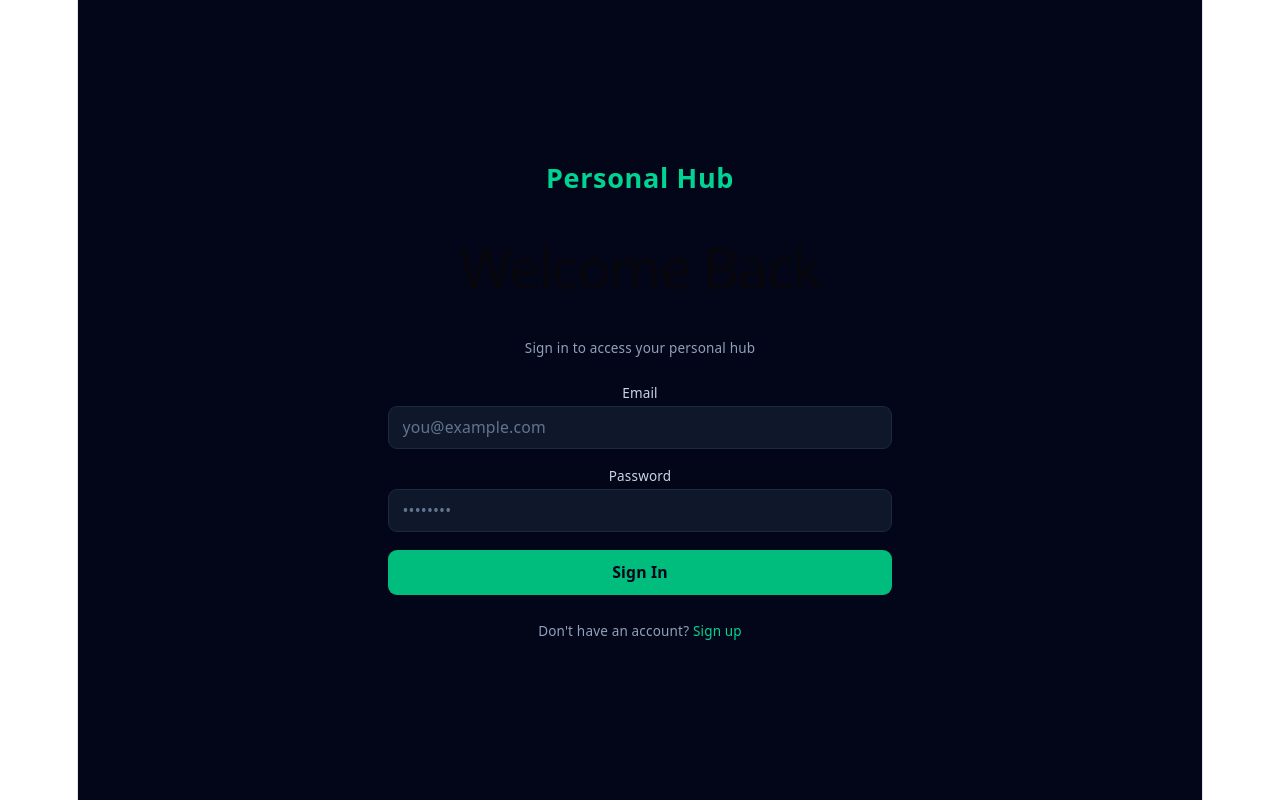
it: LoginPage component › displays inline error on field blur when invalid
Click the field labelled "Email". click: (640, 427)
box: [388,406,892,449]
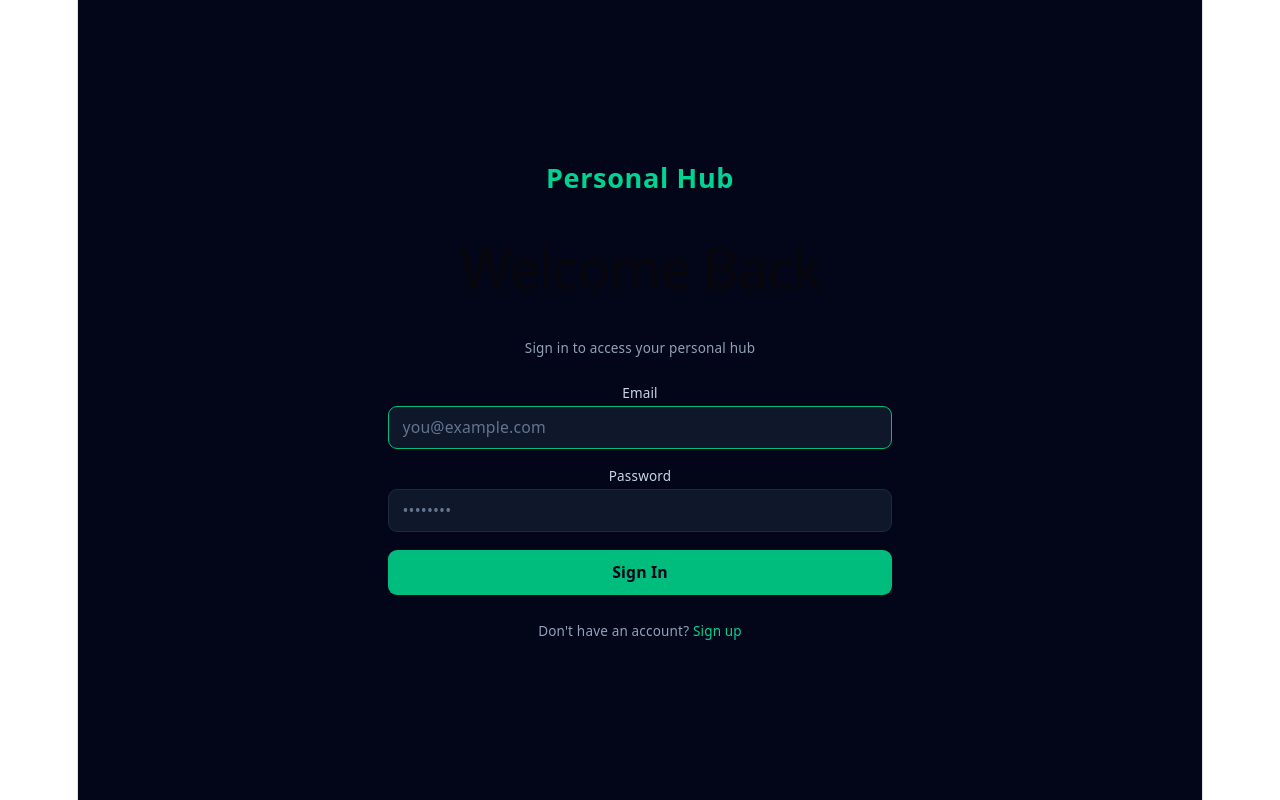
Press Tab
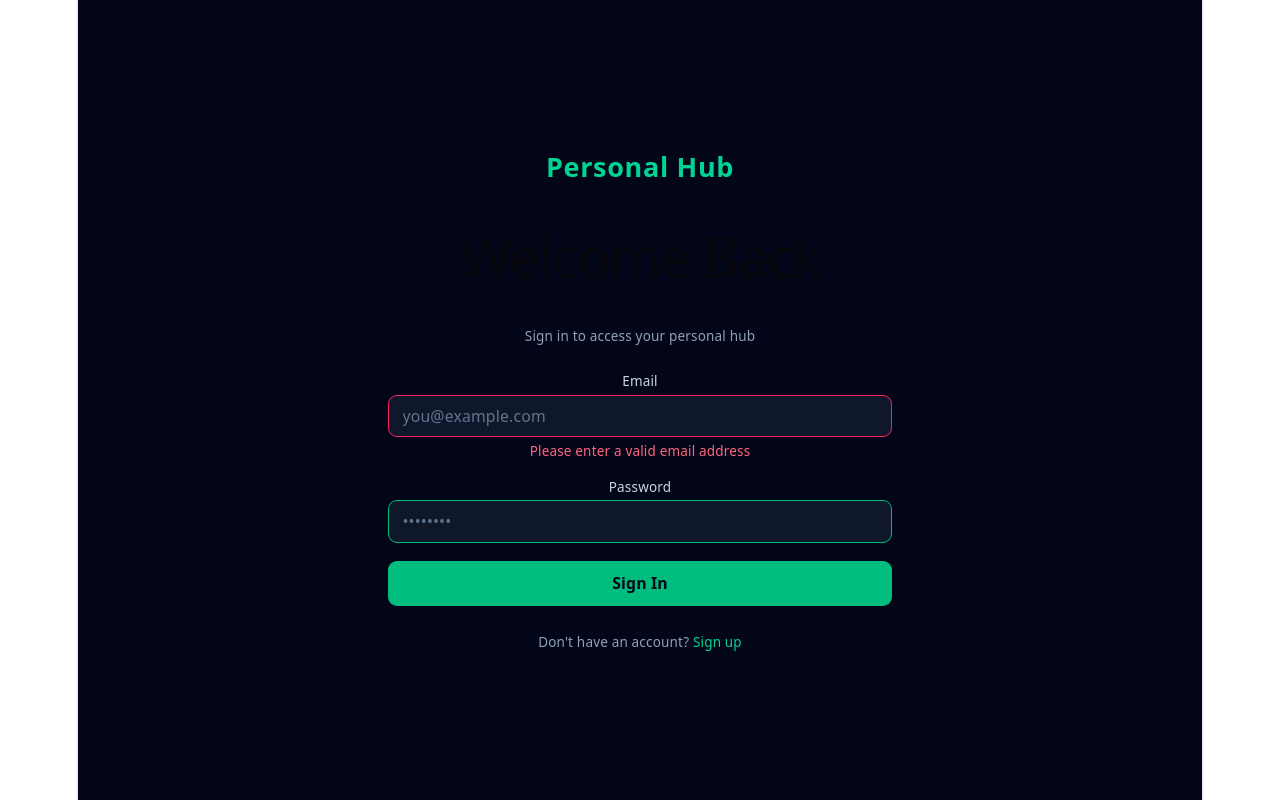
Result: the text "Please enter a valid email address" is shown at [530,442,750,460]
